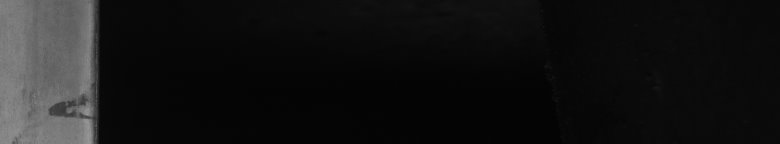hb: (22, 88, 88, 128)
